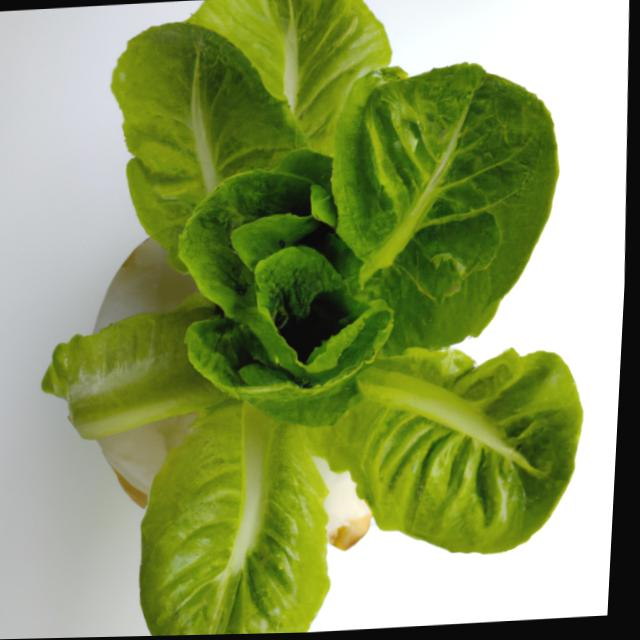-N: (6, 0, 619, 639)
